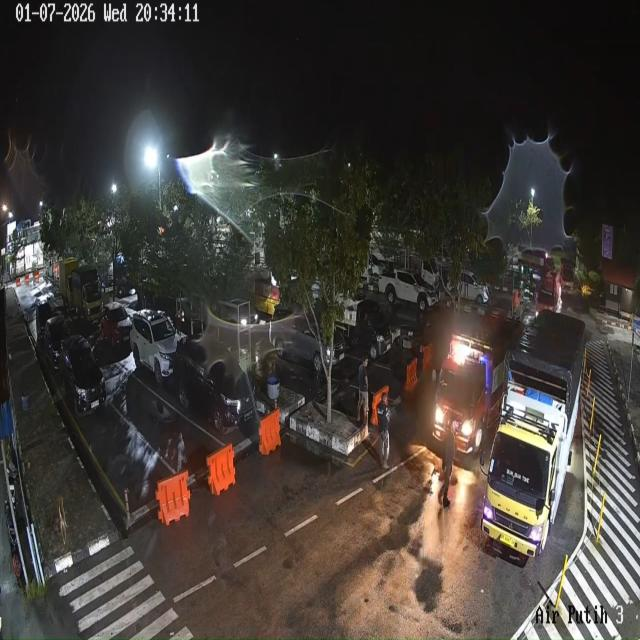Golongan IVA: (174, 339, 258, 433), (269, 304, 346, 375), (59, 335, 106, 418), (130, 309, 179, 385), (41, 314, 70, 370), (100, 301, 132, 348), (36, 301, 54, 344)
Golongan IVB: (378, 270, 439, 312)
Golongan VB: (480, 311, 586, 557), (432, 314, 522, 454), (59, 258, 102, 322)
